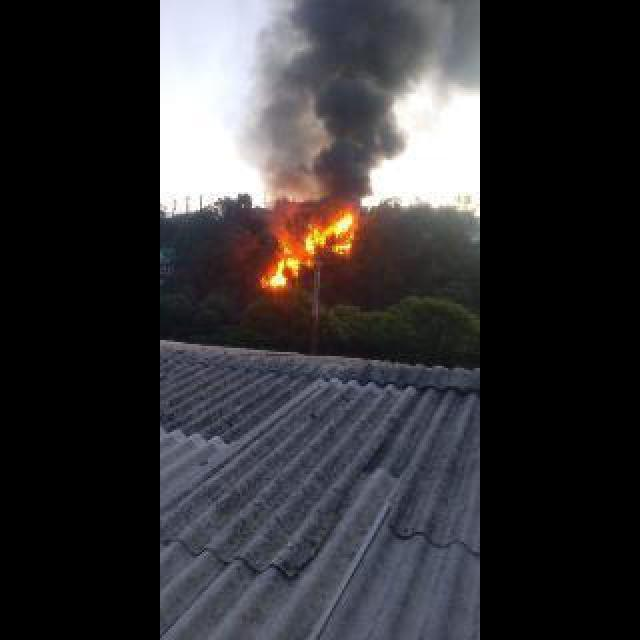Fire: (306, 216, 356, 258), (266, 248, 314, 288)
Smoke: (244, 28, 420, 214)
